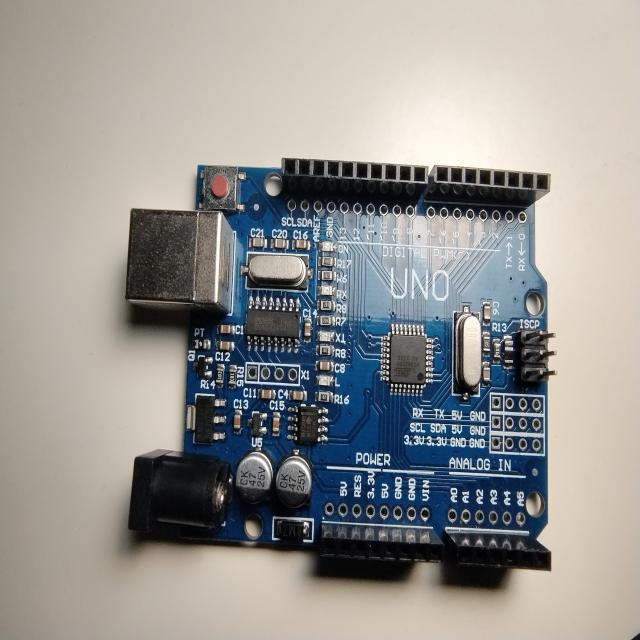arduino: (119, 136, 565, 598)
